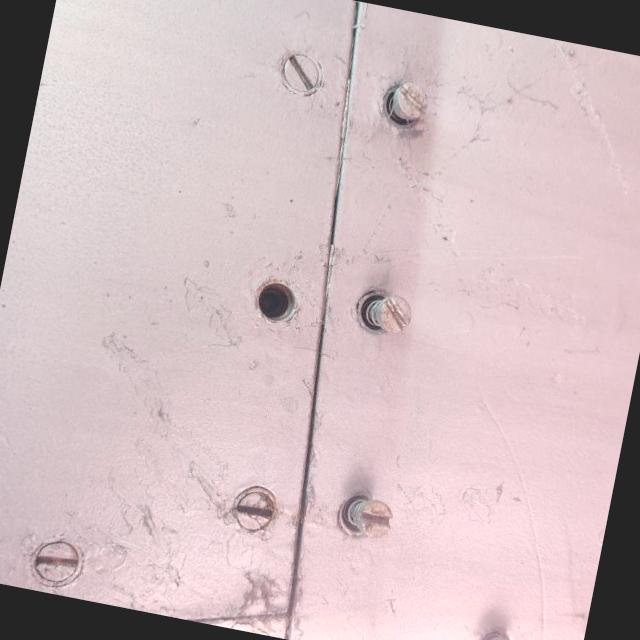Missing Fastener: (252, 276, 302, 325)
